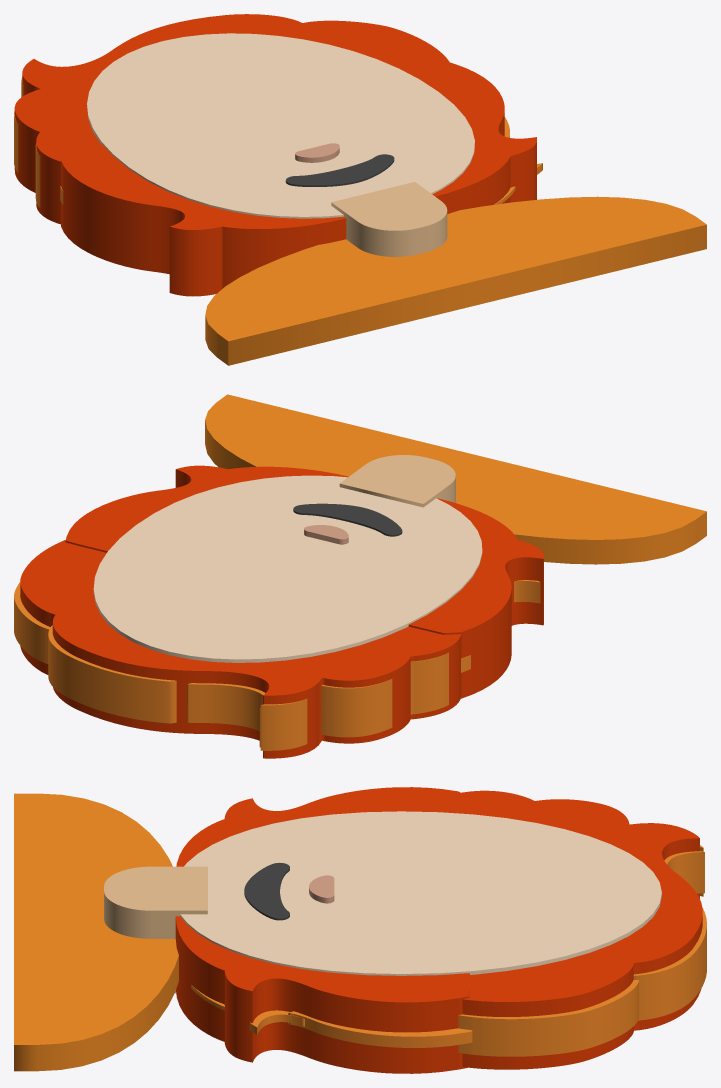
File: emoji_u1f9d1_1f3fb_200d_1f9b0.glb
3 views of the same model, one above another, from view 1: azimuth 30°, elevation 25°; view 2: azimuth 150°, elevation 25°; view 3: azimuth 270°, elevation 25° (orthographic). The views are drawn at different scales.
Parts seen in each view (by area): view 1: emoji_u1f9d1_1f3fb_200d_1f9b0; view 2: emoji_u1f9d1_1f3fb_200d_1f9b0; view 3: emoji_u1f9d1_1f3fb_200d_1f9b0.
Boxes of the visible parts, x1=… form: emoji_u1f9d1_1f3fb_200d_1f9b0: x1=14, y1=14, x2=706, y2=365; emoji_u1f9d1_1f3fb_200d_1f9b0: x1=14, y1=394, x2=706, y2=758; emoji_u1f9d1_1f3fb_200d_1f9b0: x1=14, y1=787, x2=706, y2=1073.
Size of the model in its own units: 0.0287 by 0.0046 by 0.0334.
